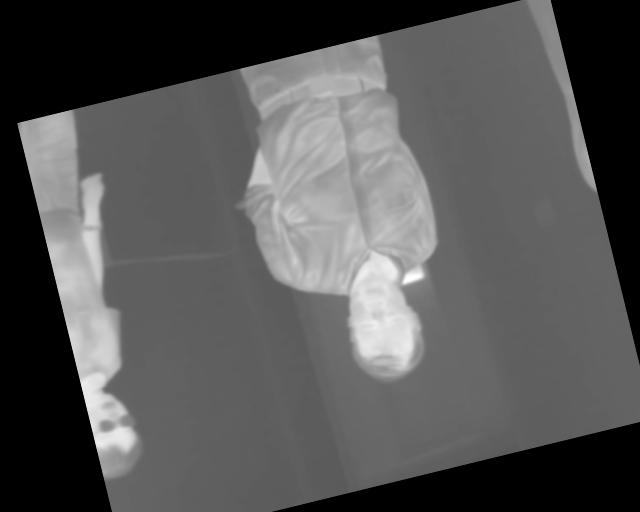face: (332, 263, 433, 391), (84, 386, 147, 481)
